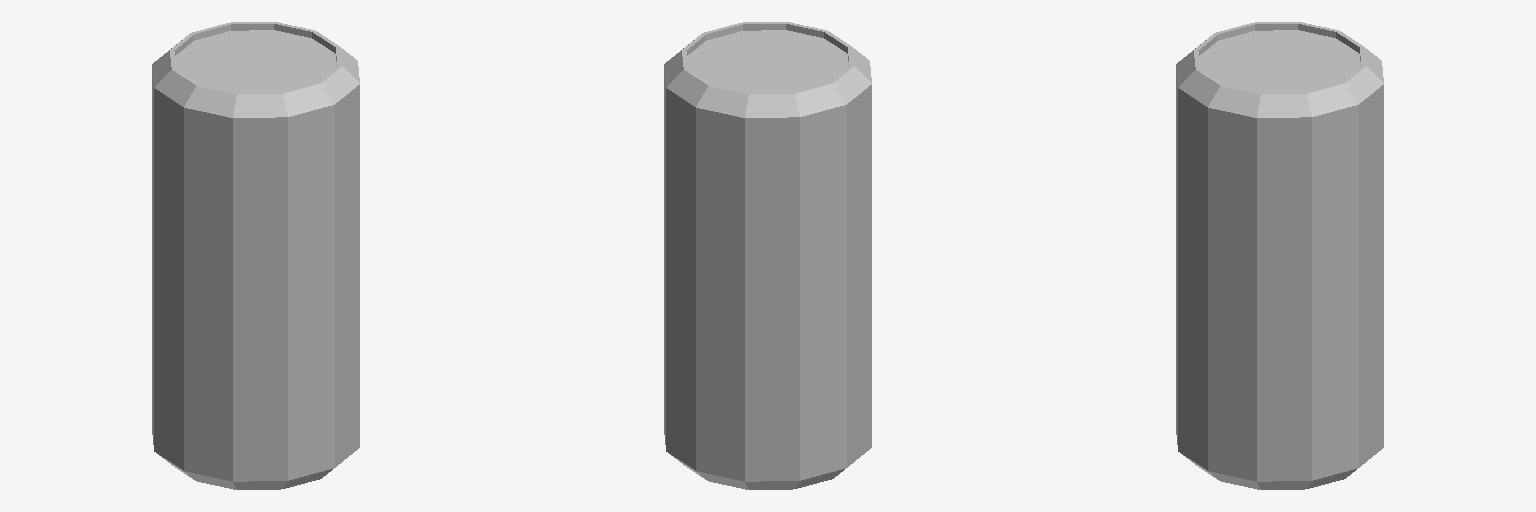
The model's file is can_cola_cola.obj.
The picture shows the model from 3 angles: view 1: azimuth 30°, elevation 25°; view 2: azimuth 150°, elevation 25°; view 3: azimuth 270°, elevation 25°; orthographic projection.
Visible parts, largest first — view 1: can_cola_cola; view 2: can_cola_cola; view 3: can_cola_cola.
Boxes of the visible parts, x1,y1,x2,y2 form: can_cola_cola: [152, 22, 359, 489]; can_cola_cola: [664, 22, 871, 489]; can_cola_cola: [1176, 22, 1383, 489].
Bounding box in the file's own units: 0.0715 × 0.1498 × 0.0715.